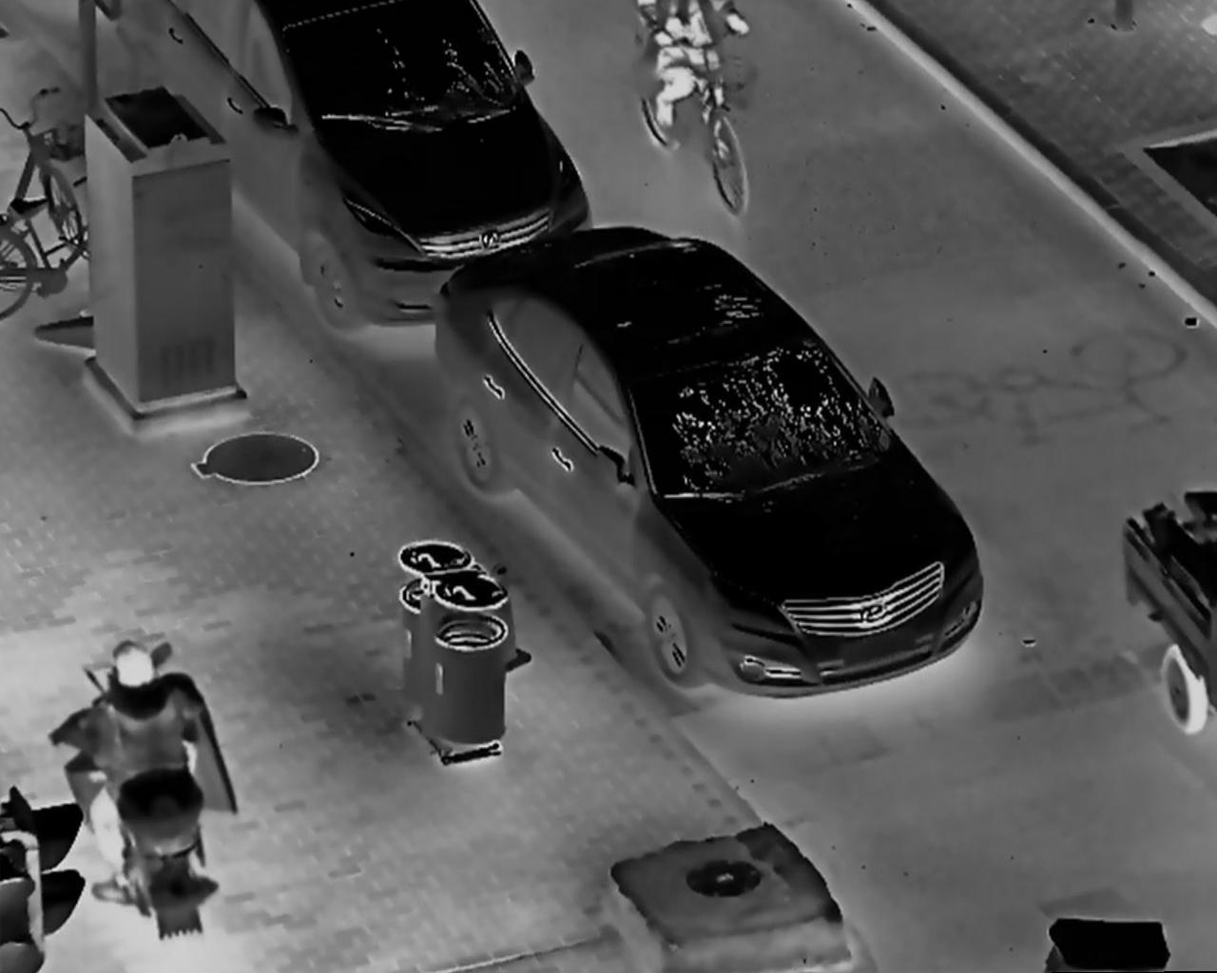person: (62, 641, 208, 905)
